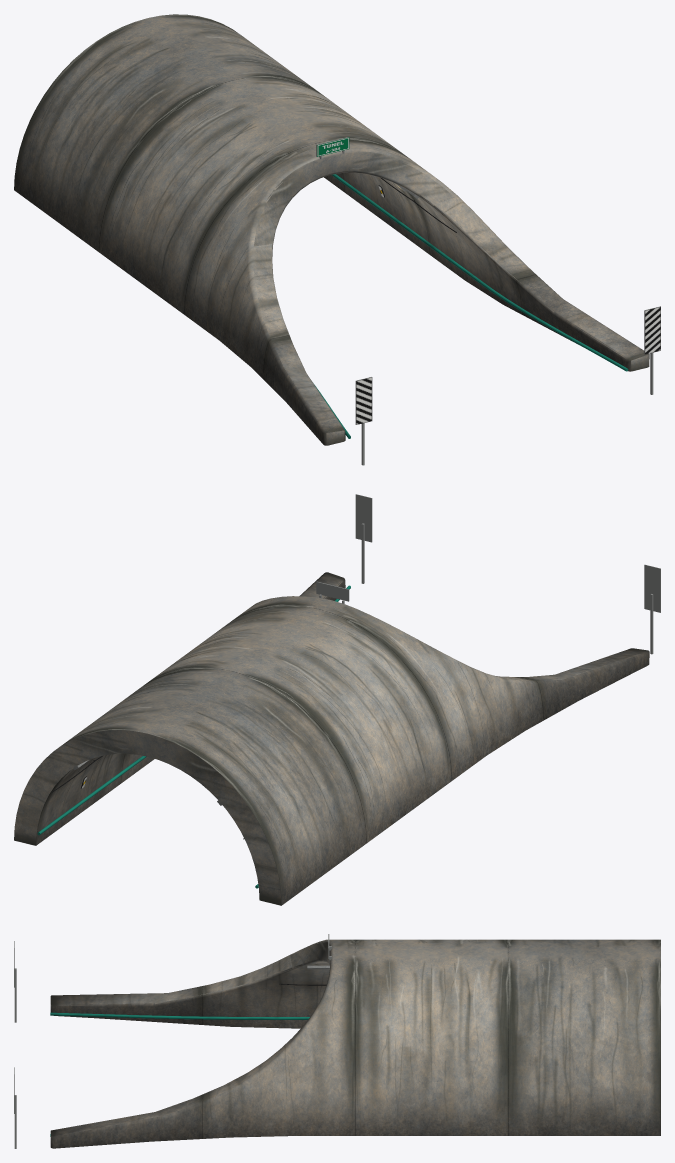
File: tunnel_end_a384.fbx
3 views of the same model, one above another, from view 1: azimuth 30°, elevation 25°; view 2: azimuth 150°, elevation 25°; view 3: azimuth 270°, elevation 25° (orthographic). The views are drawn at different scales.
Parts seen in each view (by area): view 1: tunnel_shell, tunnel_portal_signs, tunnel_handrail; view 2: tunnel_shell, tunnel_portal_signs; view 3: tunnel_shell, tunnel_handrail, tunnel_portal_signs.
Boxes of the visible parts, left/top/right/bottom form: tunnel_shell: left=14, top=14, right=649, bottom=445; tunnel_portal_signs: left=355, top=306, right=660, bottom=465; tunnel_handrail: left=314, top=174, right=628, bottom=438; tunnel_shell: left=14, top=572, right=649, bottom=905; tunnel_portal_signs: left=355, top=494, right=660, bottom=654; tunnel_shell: left=50, top=939, right=660, bottom=1148; tunnel_handrail: left=50, top=1012, right=309, bottom=1136; tunnel_portal_signs: left=14, top=941, right=16, bottom=1148.
Bounding box in the file's own units: 402 × 190 × 770.
5 materials, 5 textured.
